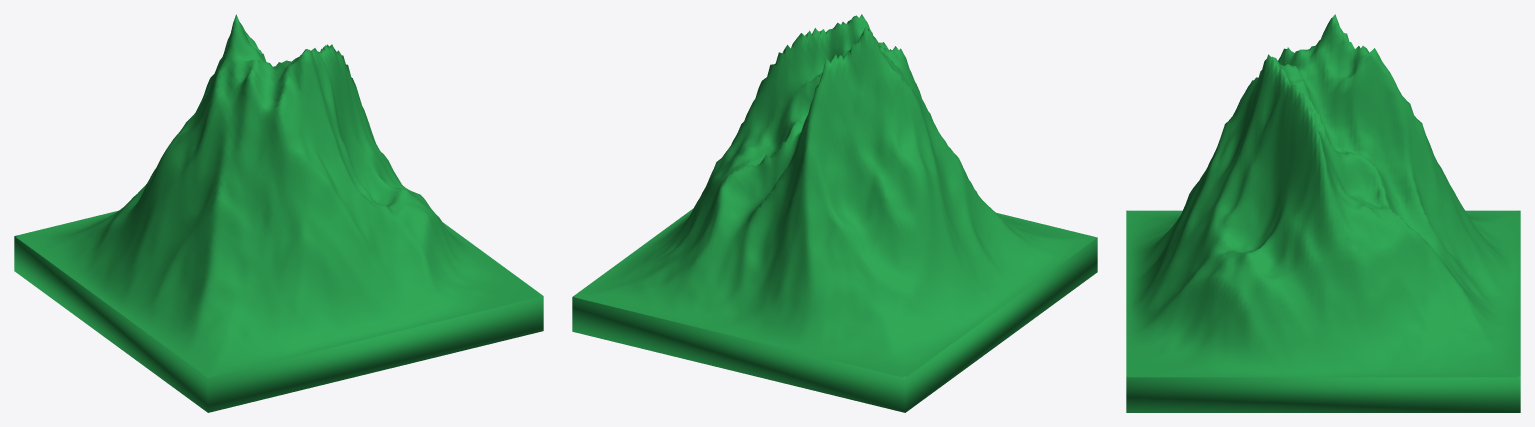
Rendered from Mountain.fbx.
3 renders of one model, left to right at view 1: azimuth 30°, elevation 25°; view 2: azimuth 150°, elevation 25°; view 3: azimuth 270°, elevation 25°, orthographic. The views are drawn at different scales.
Parts seen in each view (by area): view 1: Landschaft_1; view 2: Landschaft_1; view 3: Landschaft_1.
Boxes of the visible parts, x1,y1,x2,y2 form: Landschaft_1: (14, 14, 543, 412); Landschaft_1: (572, 14, 1097, 412); Landschaft_1: (1126, 14, 1520, 412).
Size of the model in its own units: 100 by 83.14 by 100.
